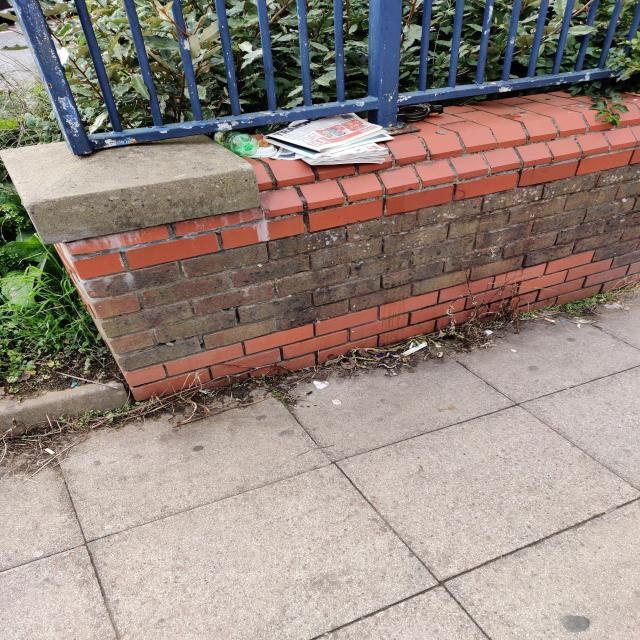litter: (263, 103, 406, 177), (207, 127, 263, 160)
